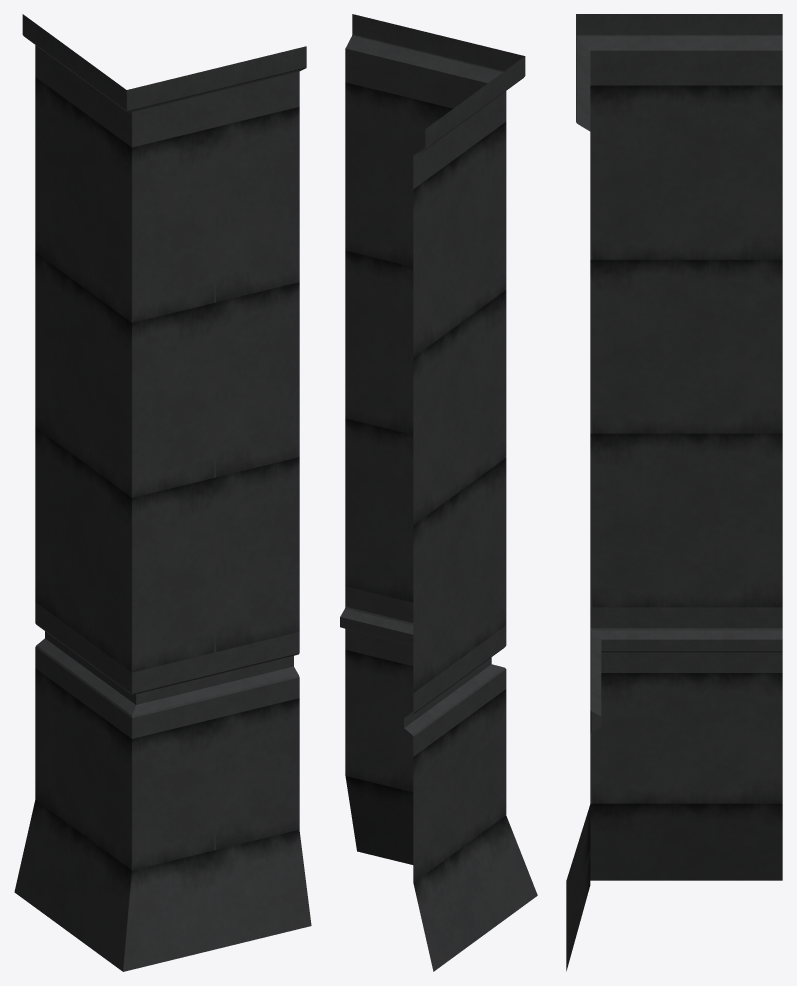
File: M_Wall_Convex_Corner_4x20_v4.fbx
3 renders of one model, left to right at view 1: azimuth 30°, elevation 25°; view 2: azimuth 150°, elevation 25°; view 3: azimuth 270°, elevation 25°, orthographic. The views are drawn at different scales.
Visible parts, largest first — view 1: Wall_Corner_Convex_4x20_v4; view 2: Wall_Corner_Convex_4x20_v4; view 3: Wall_Corner_Convex_4x20_v4.
Boxes of the visible parts, x1,y1,x2,y2 form: Wall_Corner_Convex_4x20_v4: (14, 14, 311, 971); Wall_Corner_Convex_4x20_v4: (340, 14, 537, 971); Wall_Corner_Convex_4x20_v4: (566, 14, 782, 971).
Bounding box in the file's own units: 450 × 2000 × 450.
